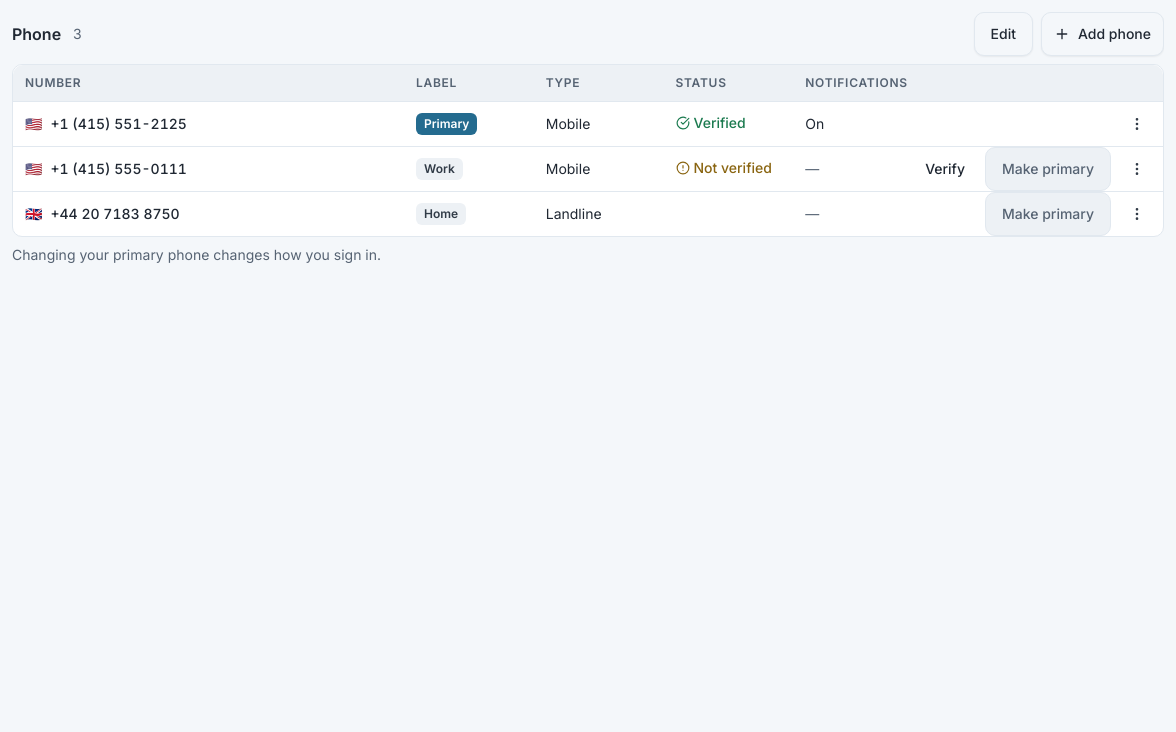
Test: PhoneSection: read-view entry points (Story 3.2) › the kebab's Remove opens edit with that row struck through and focus on its Restore
Press Enter in the button named "More actions for +1 (415) 555-0111", box left=1115, top=146, right=1159, bottom=190
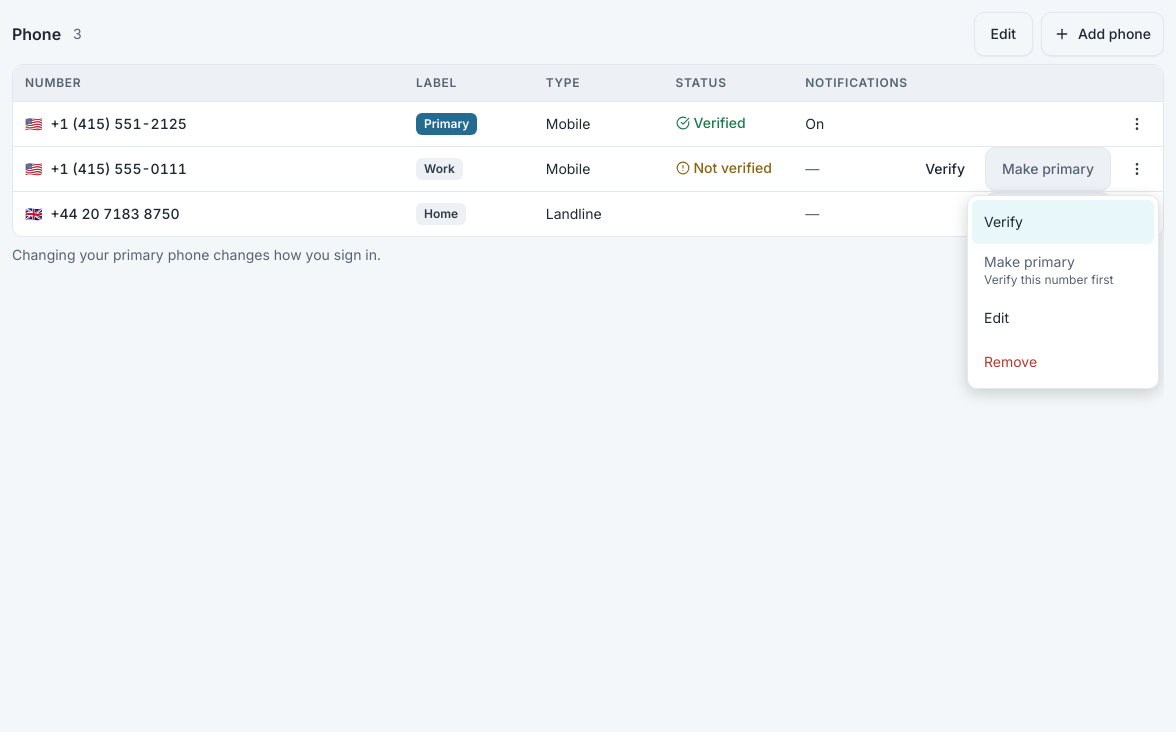
Click the menu item "Remove" at (1011, 362), box left=984, top=353, right=1037, bottom=370
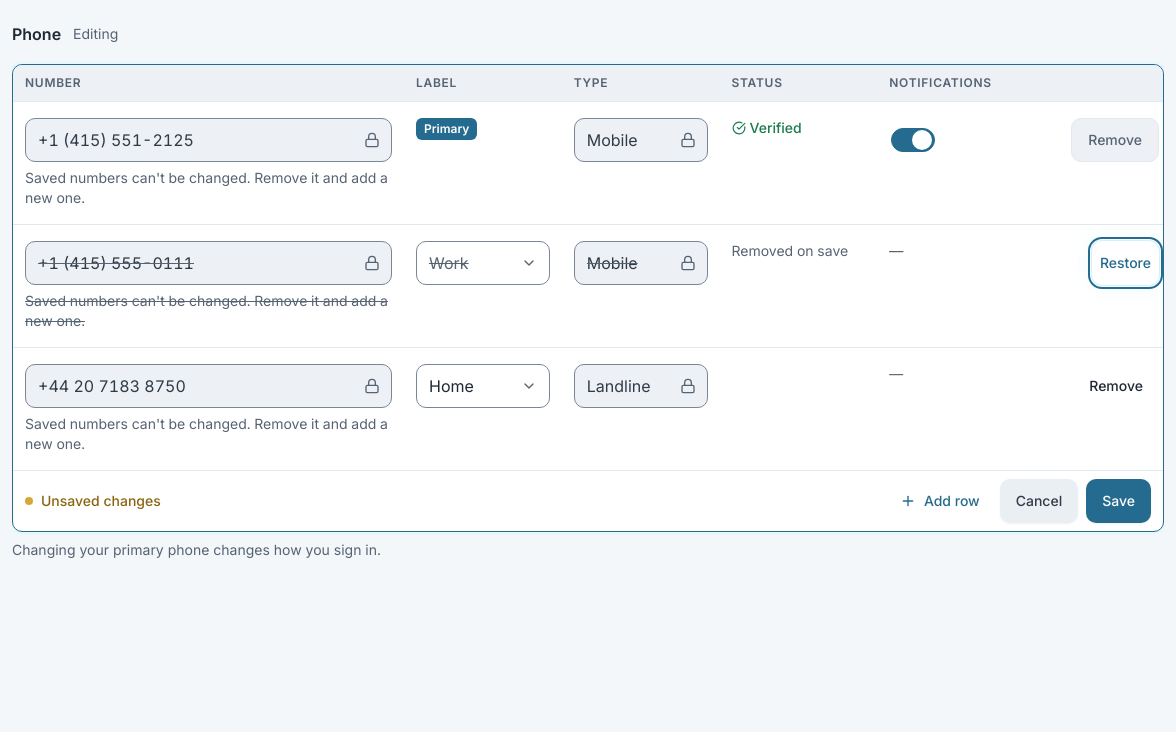
Check: the text "Removed on save" is shown, box left=732, top=240, right=848, bottom=260
Check: the text "Unsaved changes" is shown, box left=25, top=490, right=161, bottom=510
